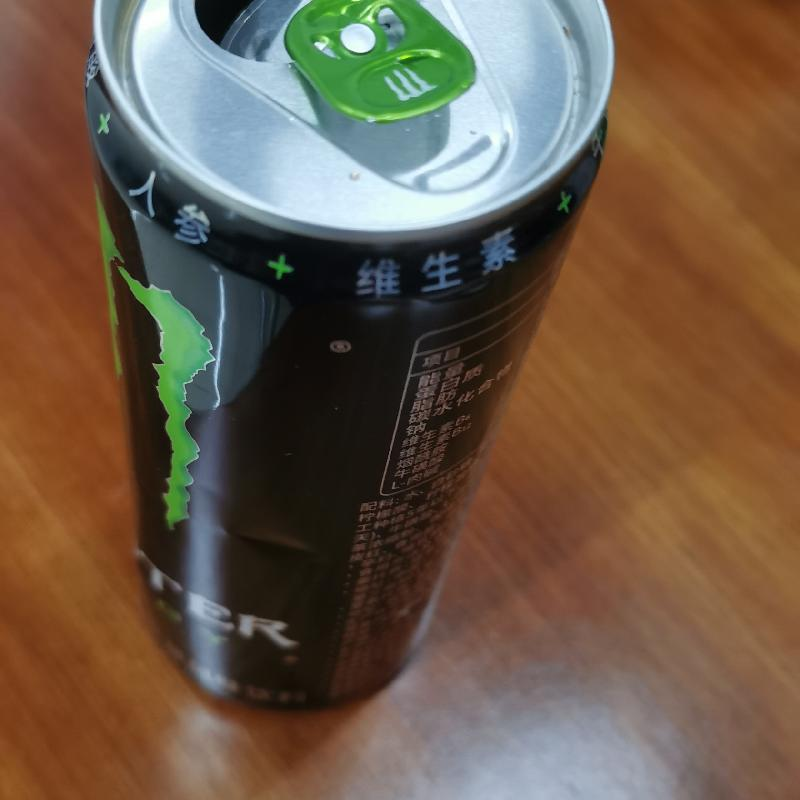cans: (79, 1, 617, 720)
